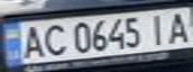0: (69, 19, 93, 54)
4: (106, 16, 127, 51)
5: (121, 14, 148, 48)
6: (90, 17, 112, 52)
A: (18, 22, 48, 60), (163, 9, 193, 44)
C: (39, 21, 69, 57)
I: (142, 11, 172, 46)
